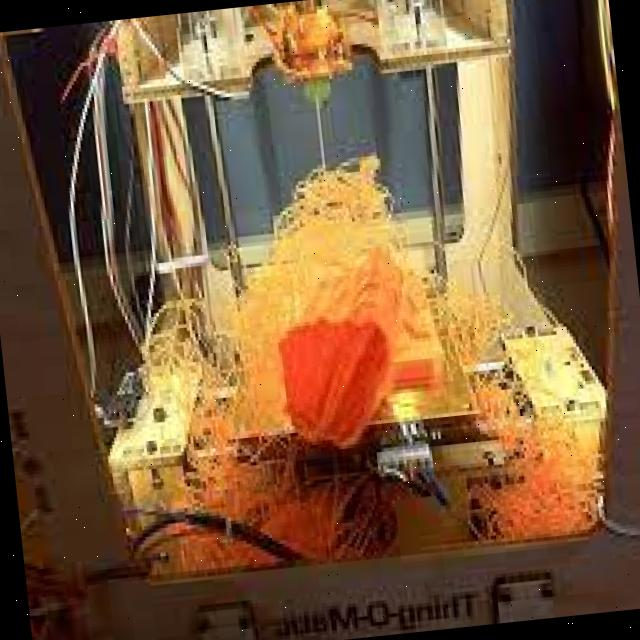spaghetti: (100, 146, 478, 538), (431, 296, 600, 548)
